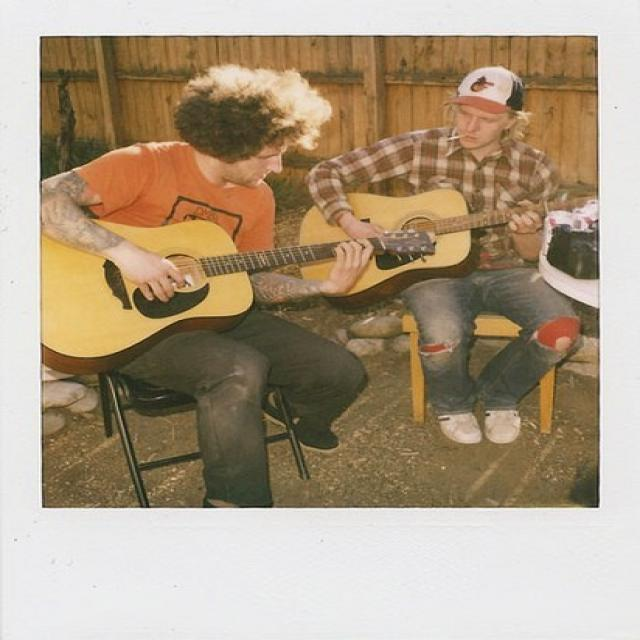guitar: (40, 219, 433, 374), (291, 189, 603, 312)
